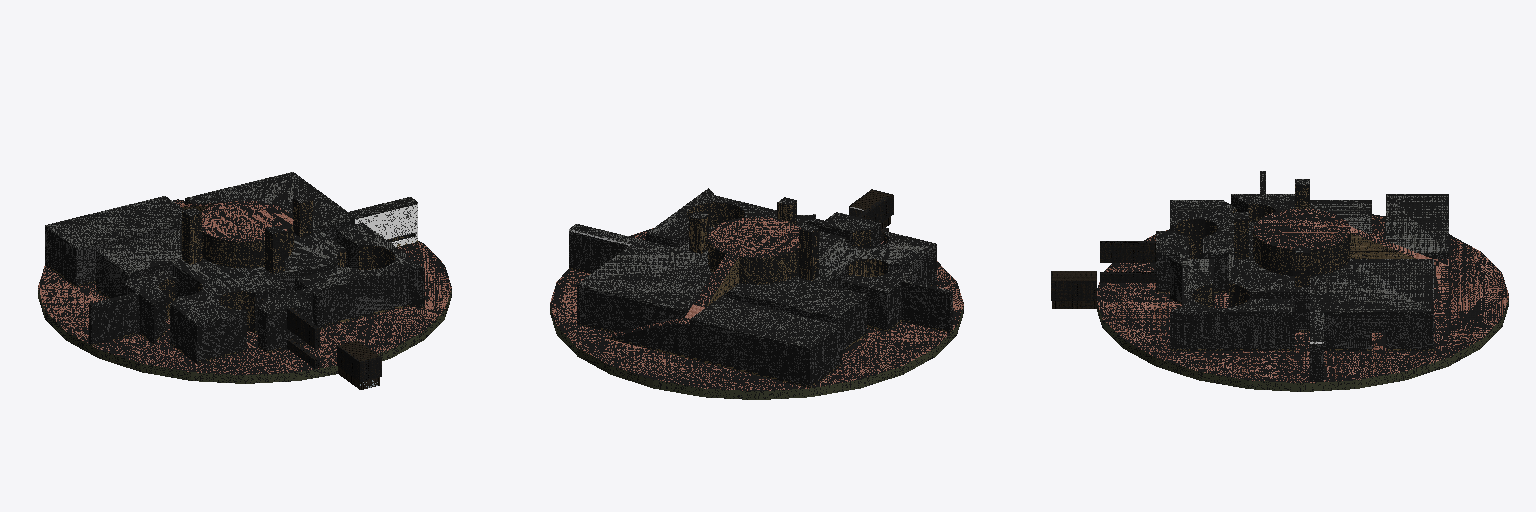
3 views of the same model, side by side, from view 1: azimuth 30°, elevation 25°; view 2: azimuth 150°, elevation 25°; view 3: azimuth 270°, elevation 25° (orthographic).
Parts seen in each view (by area): view 1: Mesh1 Model; view 2: Mesh1 Model; view 3: Mesh1 Model.
Part boxes in pixels (bbox=[...]): Mesh1 Model: bbox=[38, 172, 451, 389]; Mesh1 Model: bbox=[550, 188, 963, 399]; Mesh1 Model: bbox=[1051, 171, 1508, 391].
Bounding box in the file's own units: 84.77 × 21.97 × 93.86.
10 materials, 5 textured.